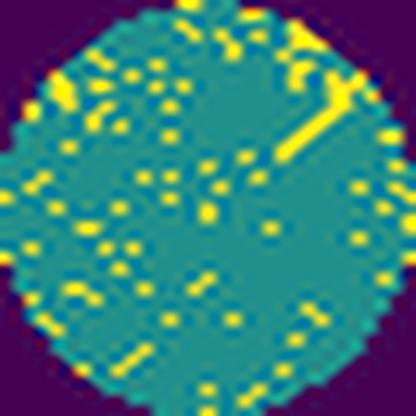Scratch: (269, 68, 370, 166)
